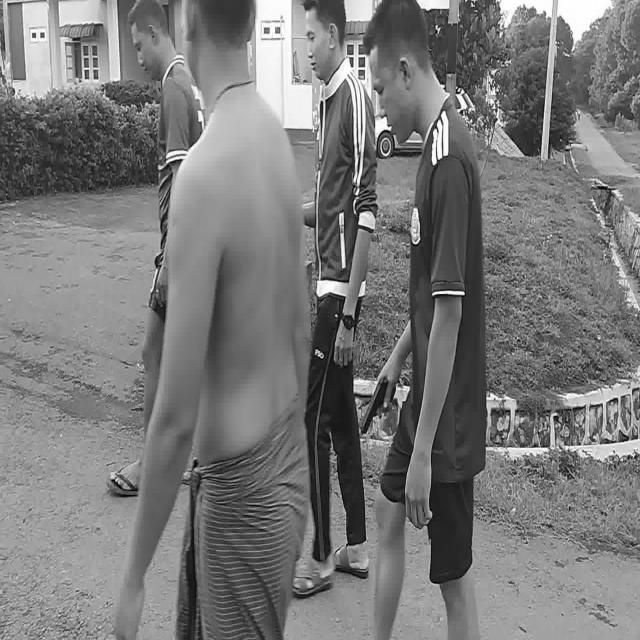gun: (359, 378, 396, 434)
